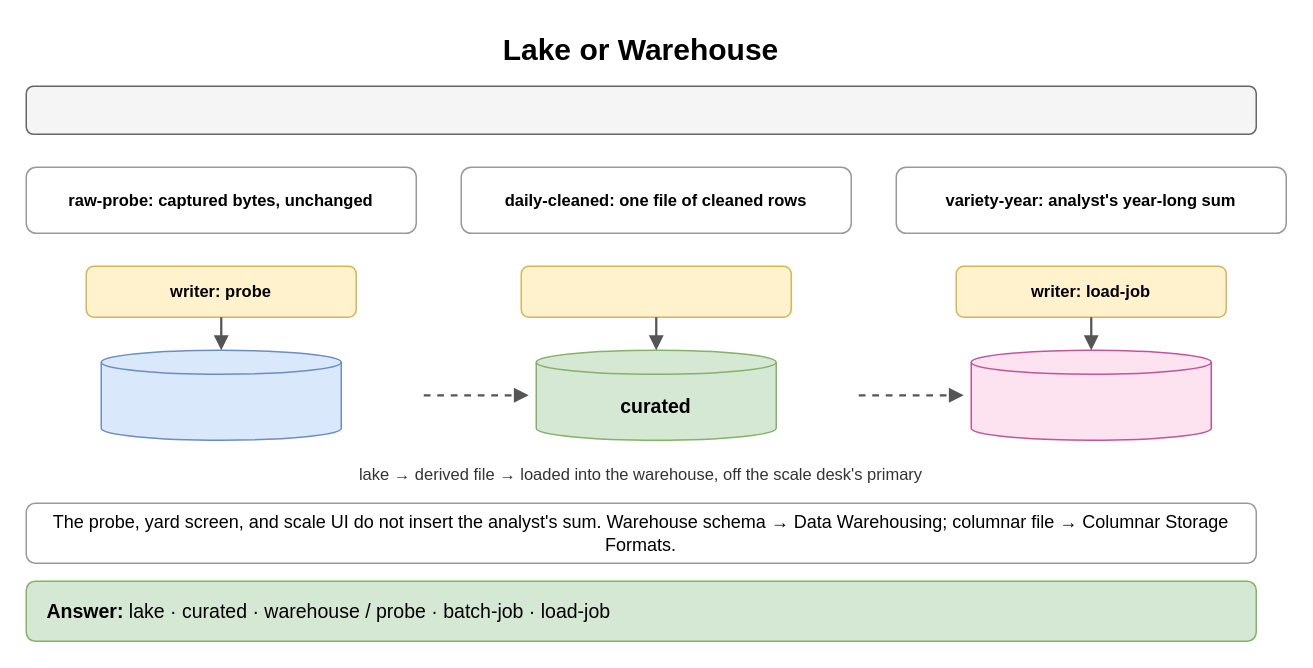
The diagram is 1313 pixels wide and 668 high, and some of its shapes have lost their labels. The shapes that lost their labels are listed below. From the top down, each one's box as (x1, y1, x2, y2) in pixels, then its label:
(25, 85, 1256, 134): Where each artifact lives, and who writes it
(520, 265, 791, 317): writer: batch-job
(100, 349, 341, 440): lake
(970, 349, 1211, 440): warehouse
